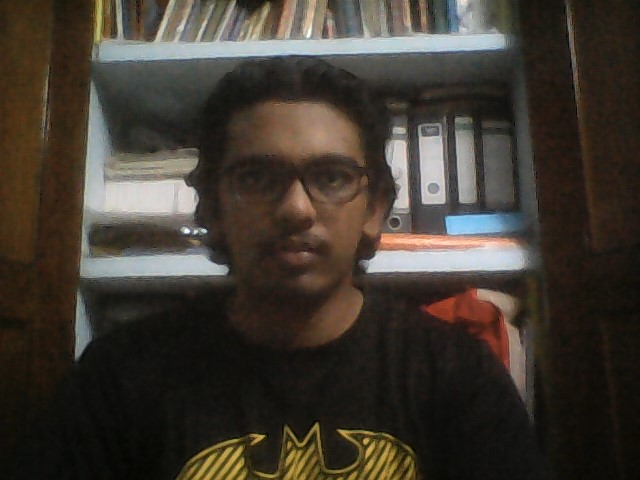person: (45, 53, 516, 466)
